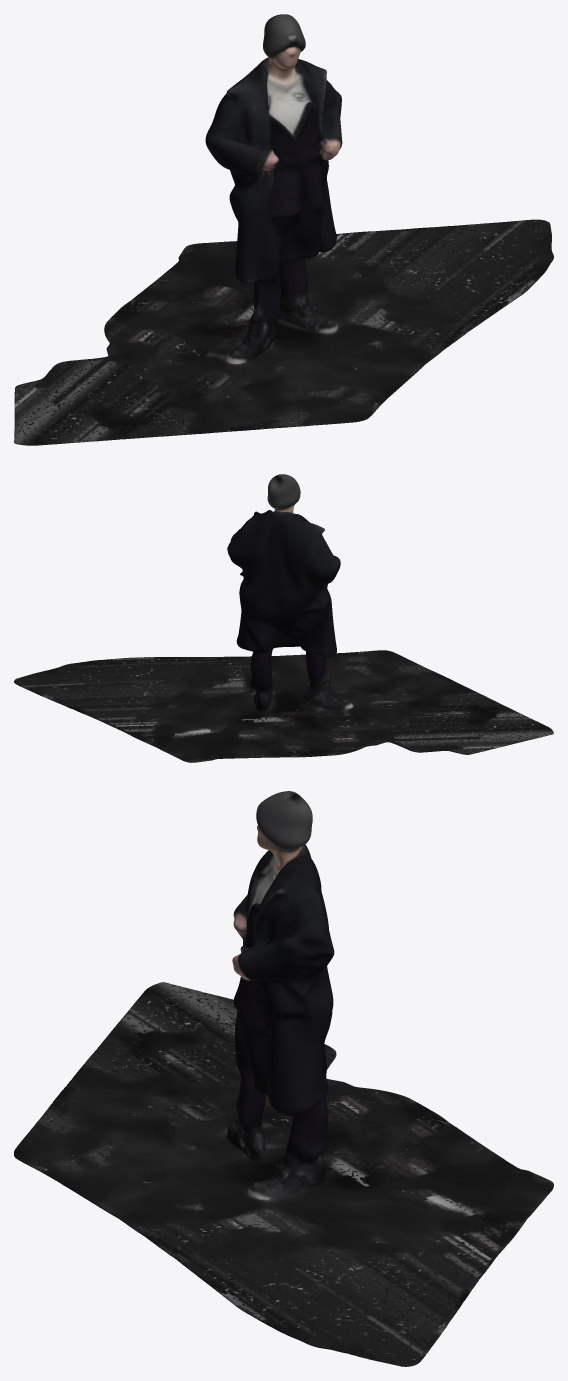
Rendered from kevin.glb.
3 renders of one model, top to bottom at view 1: azimuth 30°, elevation 25°; view 2: azimuth 150°, elevation 25°; view 3: azimuth 270°, elevation 25°, orthographic. The views are drawn at different scales.
Visible parts, largest first — view 1: world; view 2: world; view 3: world.
Part boxes in pixels (bbox=[...]): world: bbox=[14, 14, 553, 445]; world: bbox=[14, 474, 553, 762]; world: bbox=[14, 791, 553, 1366].
Bounding box in the file's own units: 1 × 0.4833 × 0.6099.
Materials: 1 (1 with a texture image).
